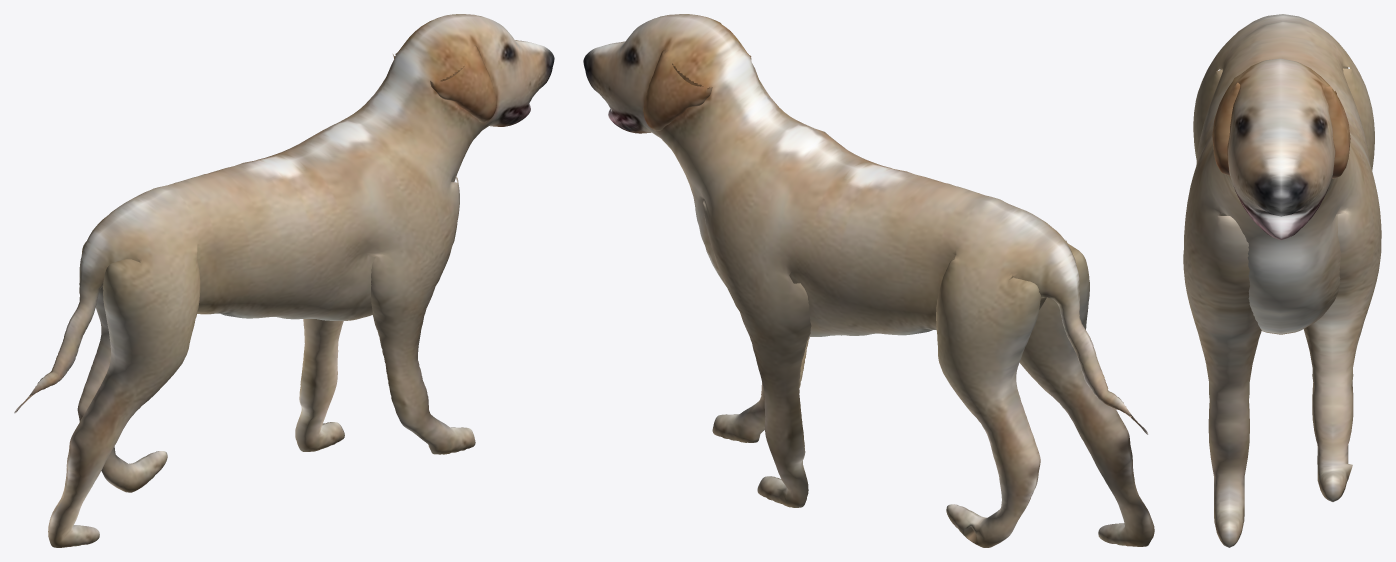
Rendered from dog.glb.
3 views of the same model, side by side, from view 1: azimuth 30°, elevation 25°; view 2: azimuth 150°, elevation 25°; view 3: azimuth 270°, elevation 25° (orthographic). The views are drawn at different scales.
Size of the model in its own units: 7.55 by 5.62 by 2.04.
Materials: 1 (1 with a texture image).
